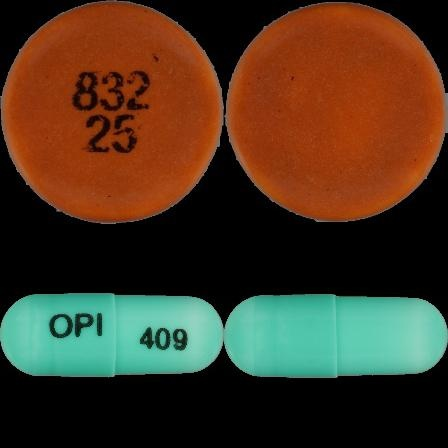68151-2478: (0, 0, 224, 224)
